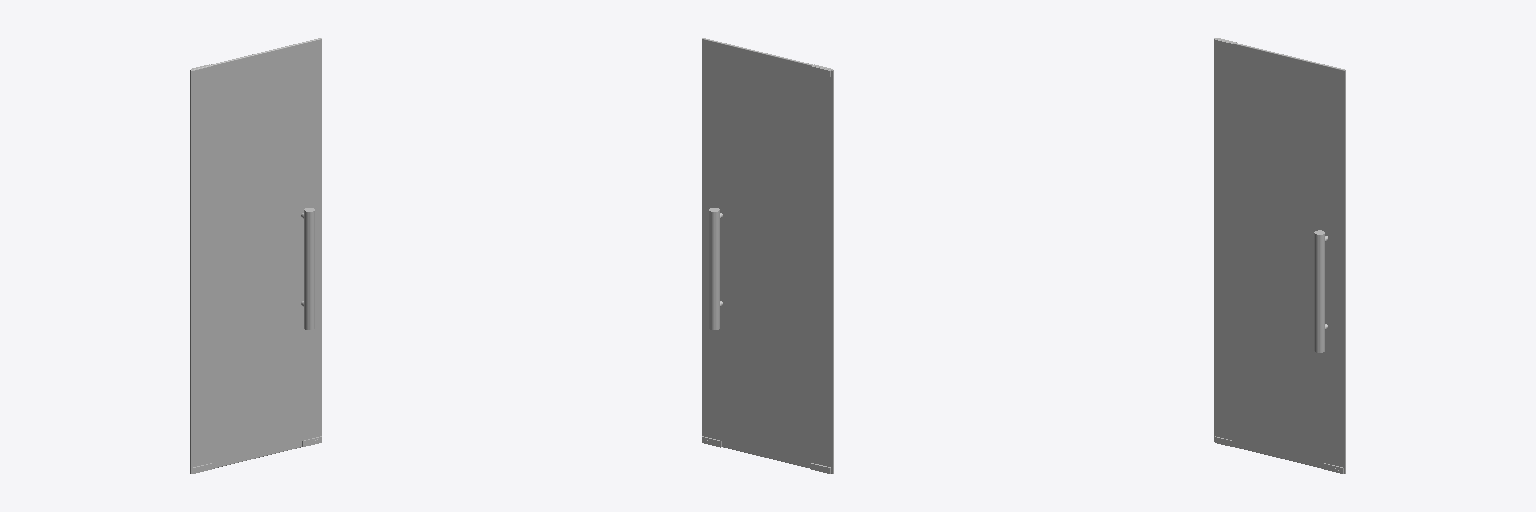
File: glass-door-2.obj
The picture shows the model from 3 angles: view 1: azimuth 30°, elevation 25°; view 2: azimuth 150°, elevation 25°; view 3: azimuth 330°, elevation 25°; orthographic projection.
Parts seen in each view (by area): view 1: Layer0_001, Group_005; view 2: Layer0_001, Group_008; view 3: Layer0_001, Group_005.
Part boxes in pixels (x1,y1,x2,y2): Layer0_001: (190, 38, 321, 473); Group_005: (304, 208, 314, 329); Layer0_001: (702, 38, 833, 473); Group_008: (709, 208, 719, 329); Layer0_001: (1214, 38, 1345, 473); Group_005: (1314, 230, 1324, 352).
Size of the model in its own units: 28 by 82 by 7.13.